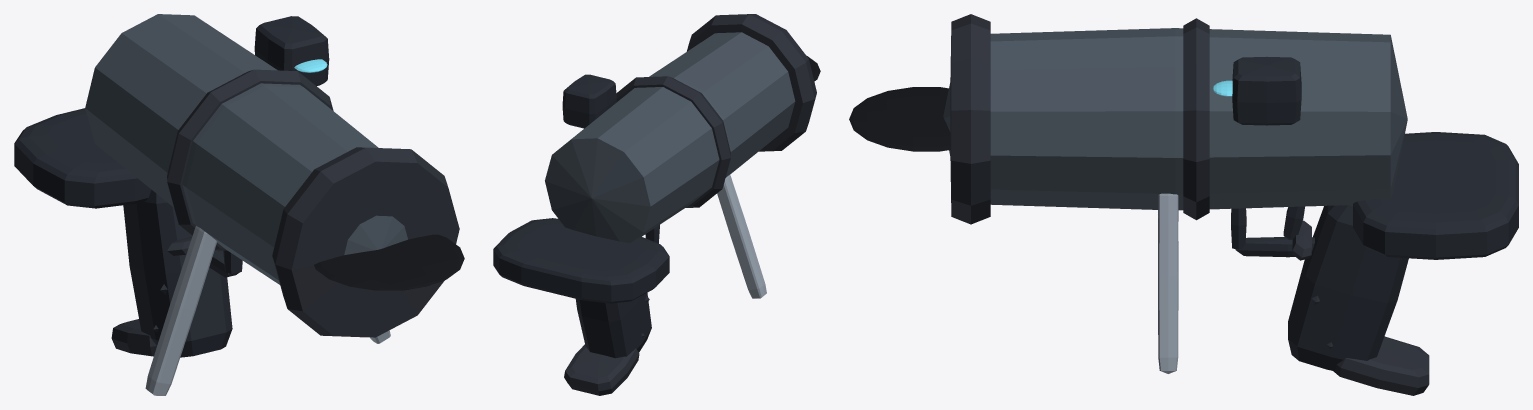
The model's file is g-x-mortar.glb.
The picture shows the model from 3 angles, left to right: view 1: azimuth 30°, elevation 25°; view 2: azimuth 150°, elevation 25°; view 3: azimuth 270°, elevation 25°; orthographic projection. The views are drawn at different scales.
Visible parts, largest first — view 1: gun; view 2: gun; view 3: gun.
Part boxes in pixels (<box>): gun: <box>14,14,464,395</box>; gun: <box>493,14,820,395</box>; gun: <box>849,14,1518,395</box>.
Bounding box in the file's own units: 0.3952 × 0.5636 × 0.9506.
